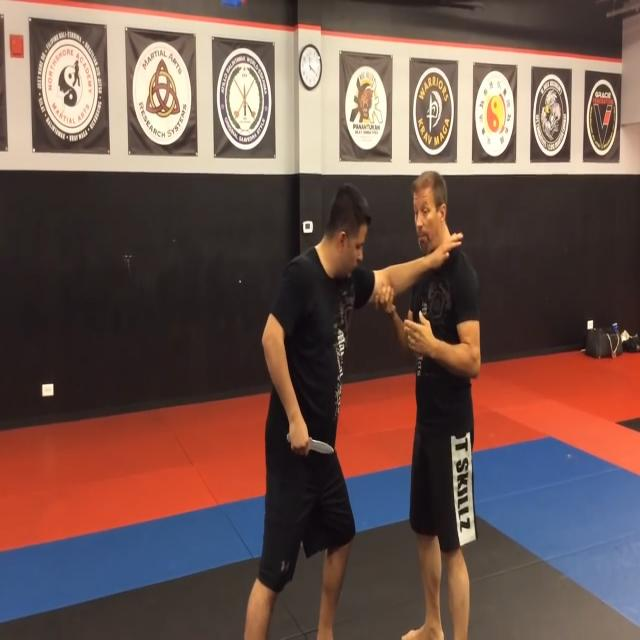knife: (308, 426, 341, 460)
